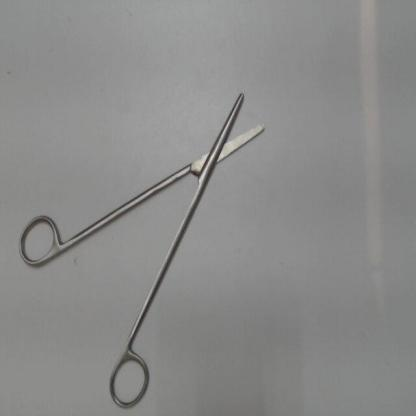9 Metzenbaum Scissors: (18, 82, 269, 414)
